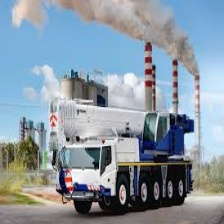smoke: (11, 1, 213, 74)
